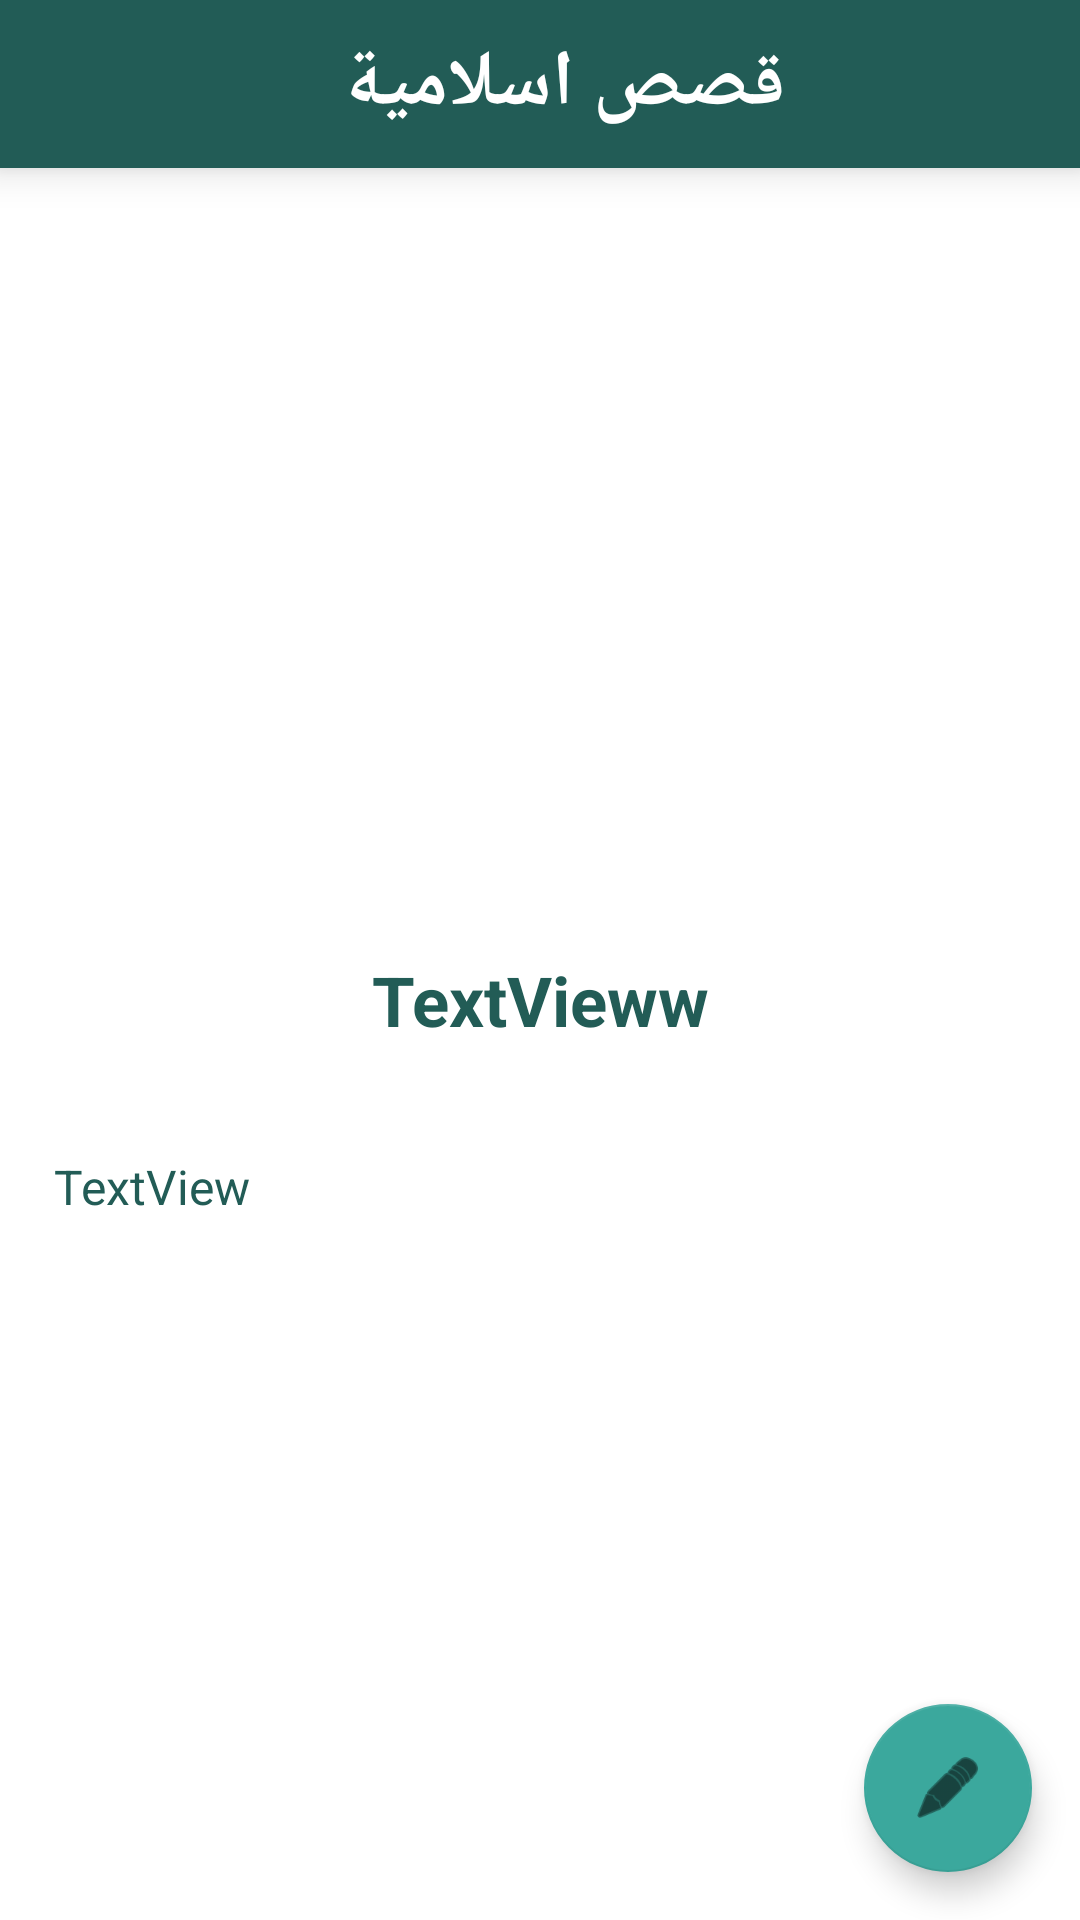

Screen size 1080×1920. Icon name, then its center in pixels as (x=x, y=y):
edit: (x=948, y=1788)
